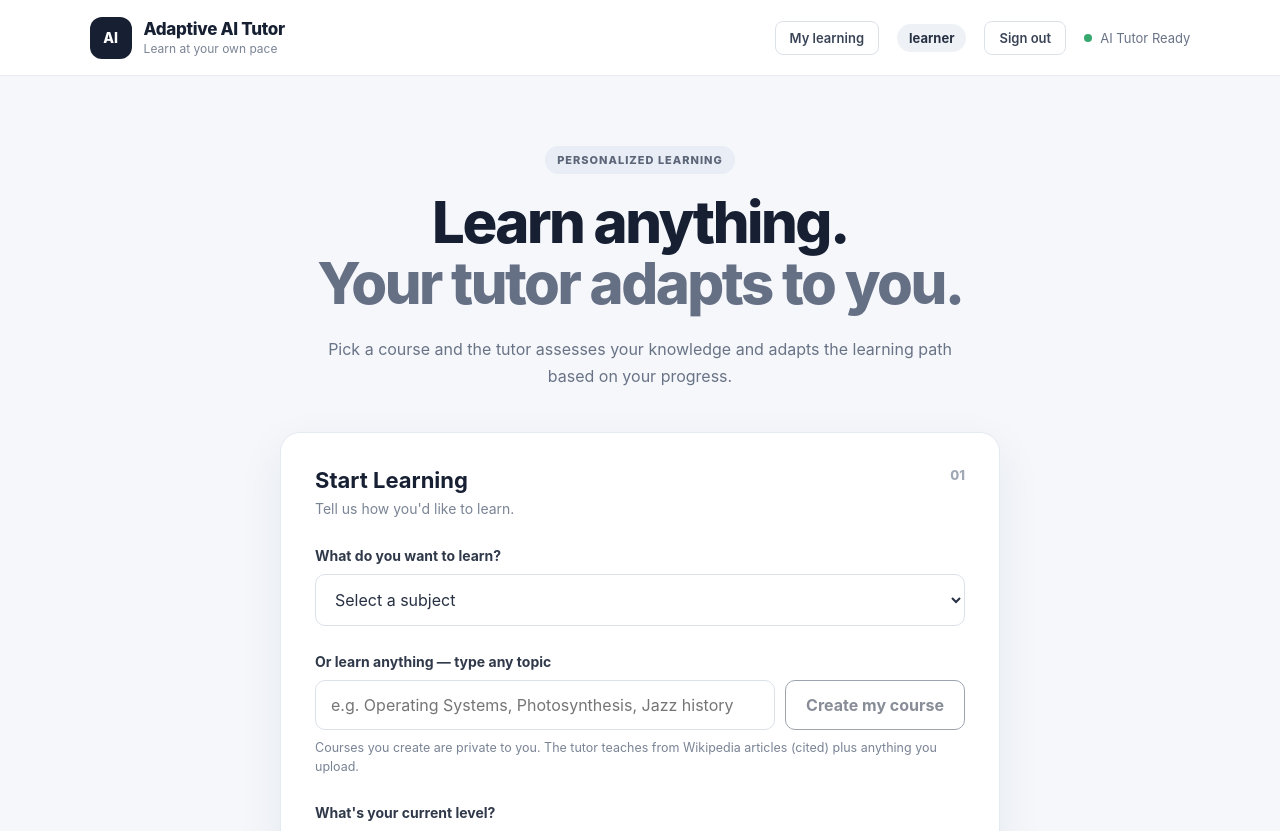
authentication › signs out and forgets the token
Step 1. Click the button "Sign out" → (1025, 38), box [984,20,1066,54]
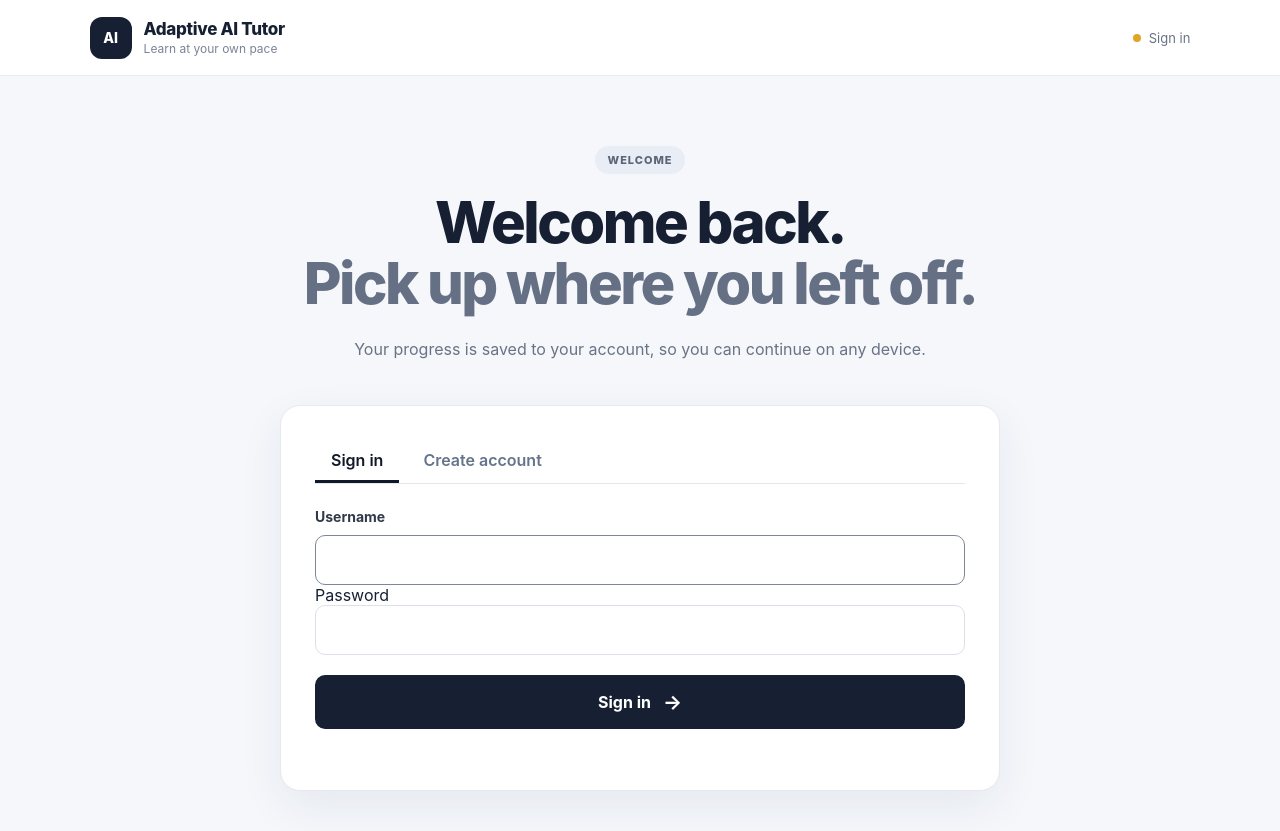
Expected: the field labelled "Username" is shown, [315,535,965,585]
